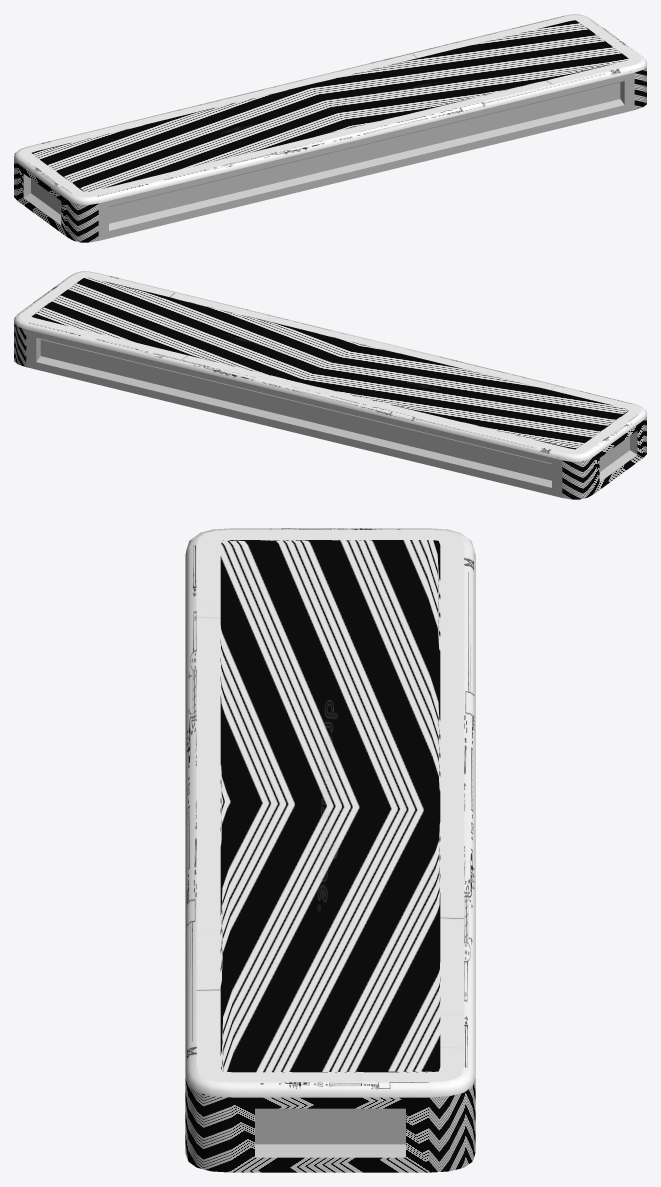
File: Platform_1v2.FBX
3 renders of one model, top to bottom at view 1: azimuth 30°, elevation 25°; view 2: azimuth 150°, elevation 25°; view 3: azimuth 270°, elevation 25°, orthographic. The views are drawn at different scales.
Visible parts, largest first — view 1: Box001; view 2: Box001; view 3: Box001.
Boxes of the visible parts, left/top/right/bottom form: Box001: left=14, top=14, right=646, bottom=242; Box001: left=14, top=271, right=646, bottom=499; Box001: left=185, top=528, right=475, bottom=1172.
Size of the model in its own units: 15.75 by 1.12 by 3.44.
